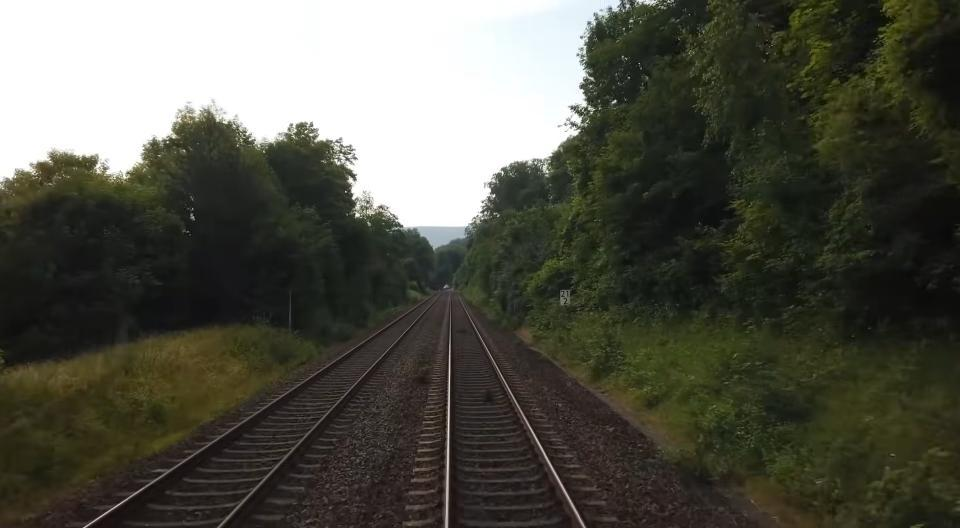Plant: (0, 326, 322, 526), (674, 438, 730, 482), (412, 367, 432, 385), (485, 390, 496, 401)
